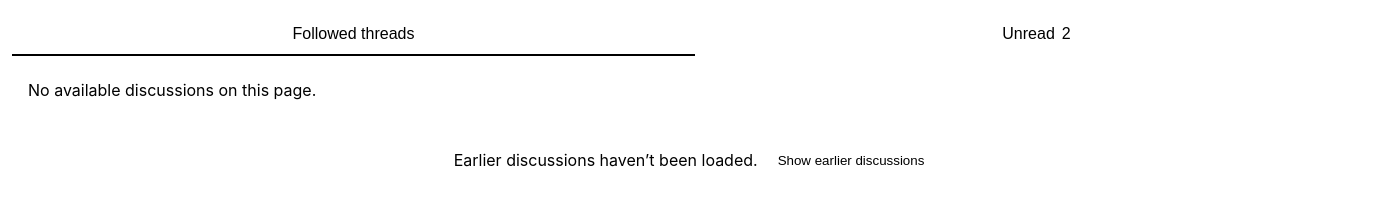
a page of inaccessible roots keeps the server boundary and a visible attachment-only root can be opened
The width and height of the screenshot is (1390, 199).
Expected: the heading "No available discussions on this page." is shown, 28,80 -> 316,100
Click the button "Show earlier discussions": (851, 160) 766,138 -> 936,182
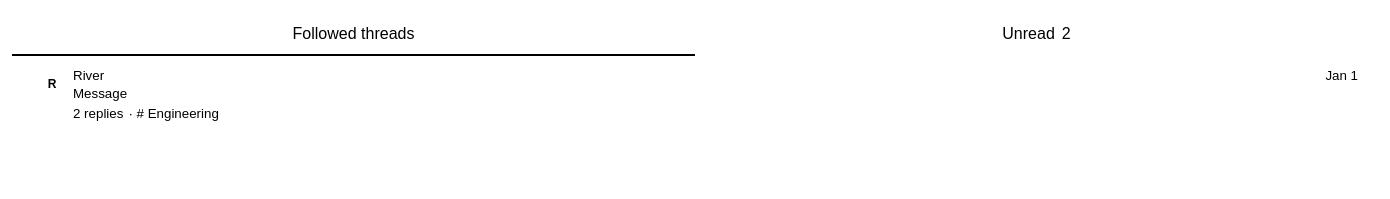
Now the button "R River Jan 1 Message 2 replies · # Engineering" is shown, box 12,56 -> 1378,133
